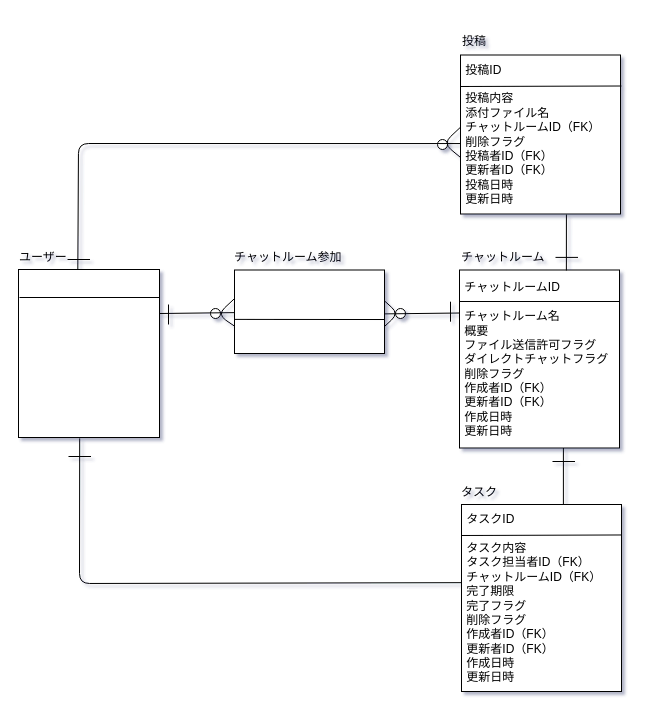
Image size: 646x715. Some labels were removed from this diagram. Here are the shapes that lost their labels. From the top down, the centre of each, then its label:
At (309,311): "チャットルームID（FK） 参加者ID（FK） 参加日時".
At (89,353): "ユーザーID メールアドレス パスワード 表示名 自己紹介 勤務先電話番号 携帯電話番号 削除フラグ 作成日時 更新日時".
